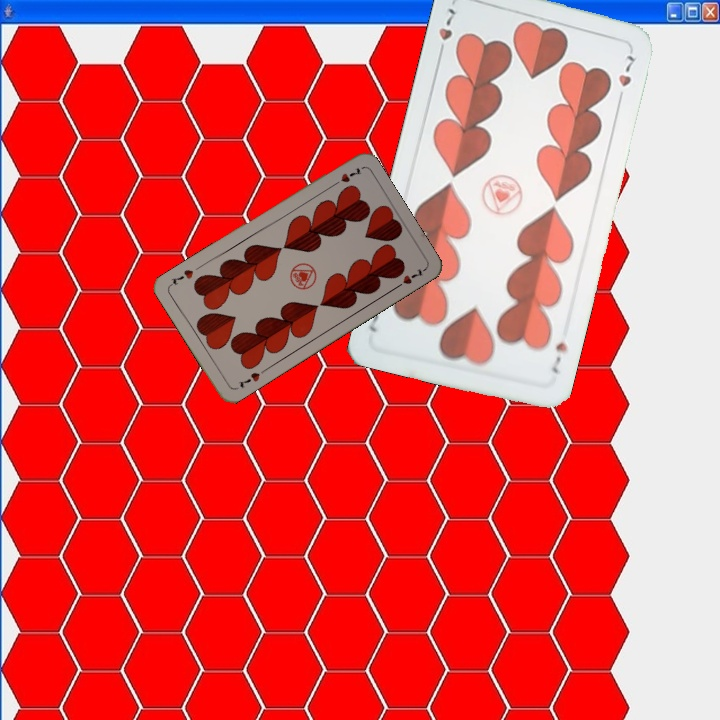H7: (434, 4, 458, 60), (327, 163, 364, 190), (548, 338, 570, 376), (234, 368, 262, 391)
